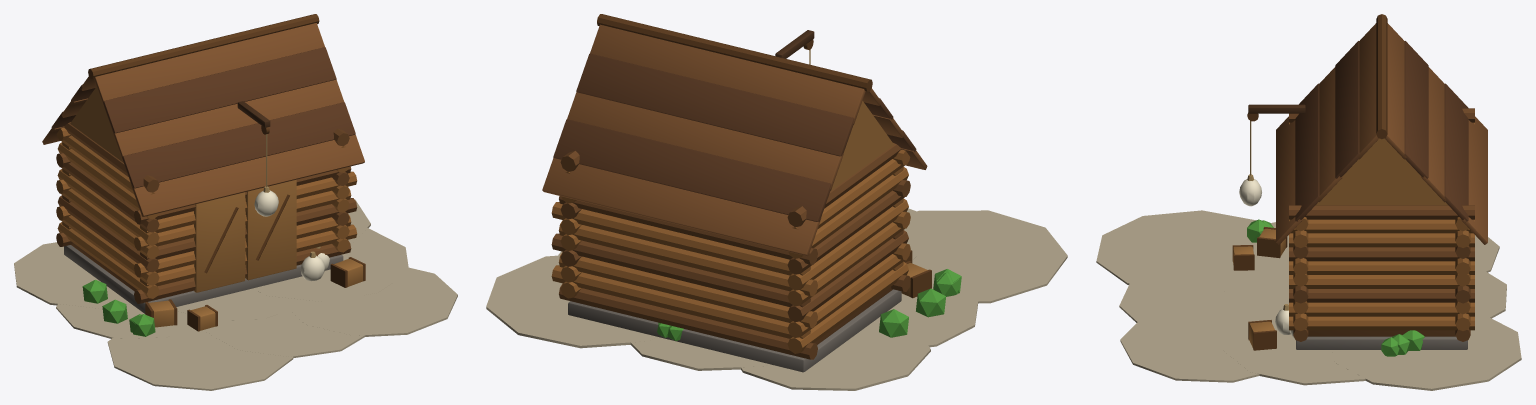
Rendered from magazyn_poz07.glb.
3 views of the same model, side by side, from view 1: azimuth 30°, elevation 25°; view 2: azimuth 150°, elevation 25°; view 3: azimuth 270°, elevation 25° (orthographic). The views are drawn at different scales.
Visible parts, largest first — view 1: magazyn_poz07; view 2: magazyn_poz07; view 3: magazyn_poz07.
Boxes of the visible parts, x1=… form: magazyn_poz07: x1=14, y1=14, x2=457, y2=390; magazyn_poz07: x1=486, y1=14, x2=1067, y2=390; magazyn_poz07: x1=1096, y1=14, x2=1521, y2=390.
Bounding box in the file's own units: 8.86 × 5.43 × 8.91.
